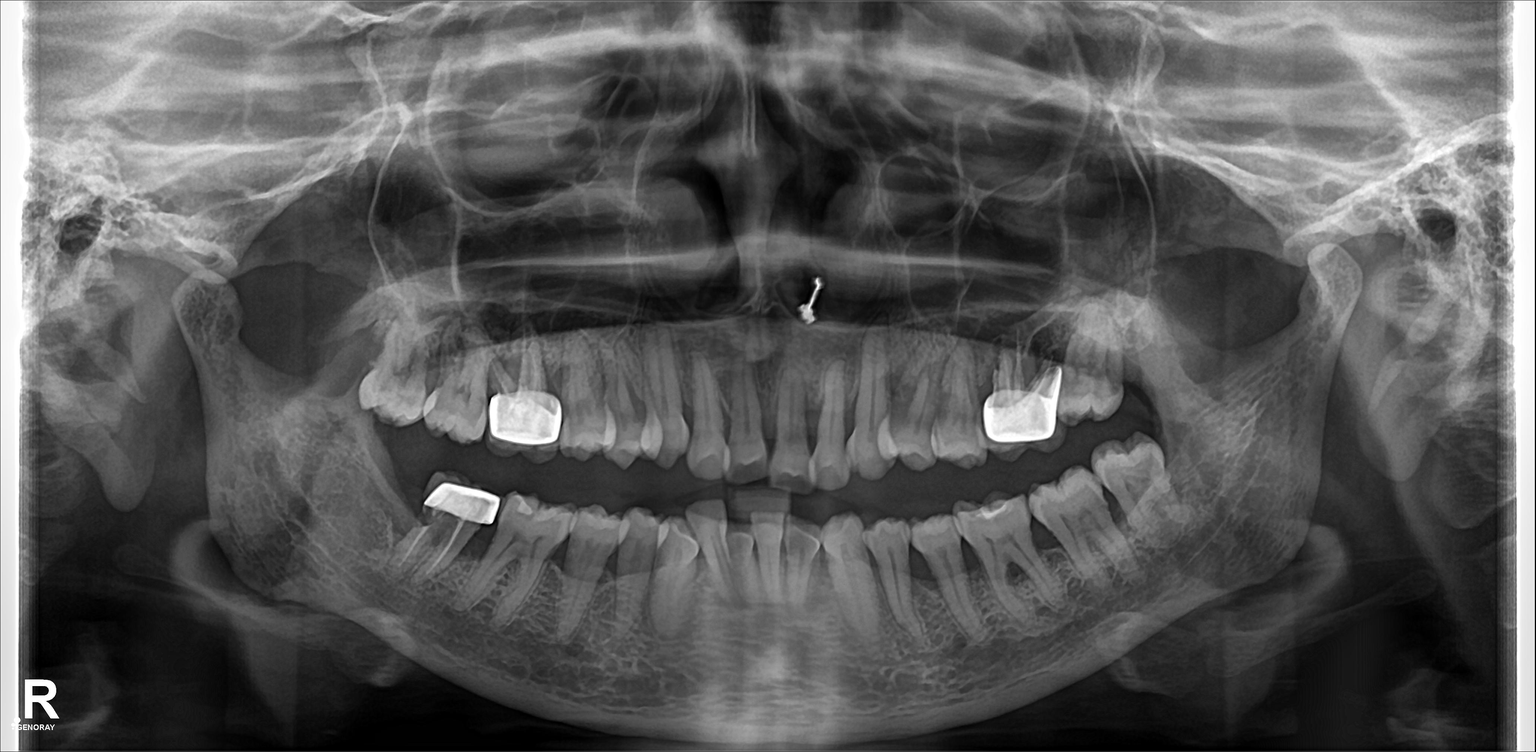Endodontically Treated Tooth: (419, 478, 489, 582), (976, 348, 1058, 436), (490, 344, 559, 447)
Missing Tooth: (356, 454, 420, 575)
